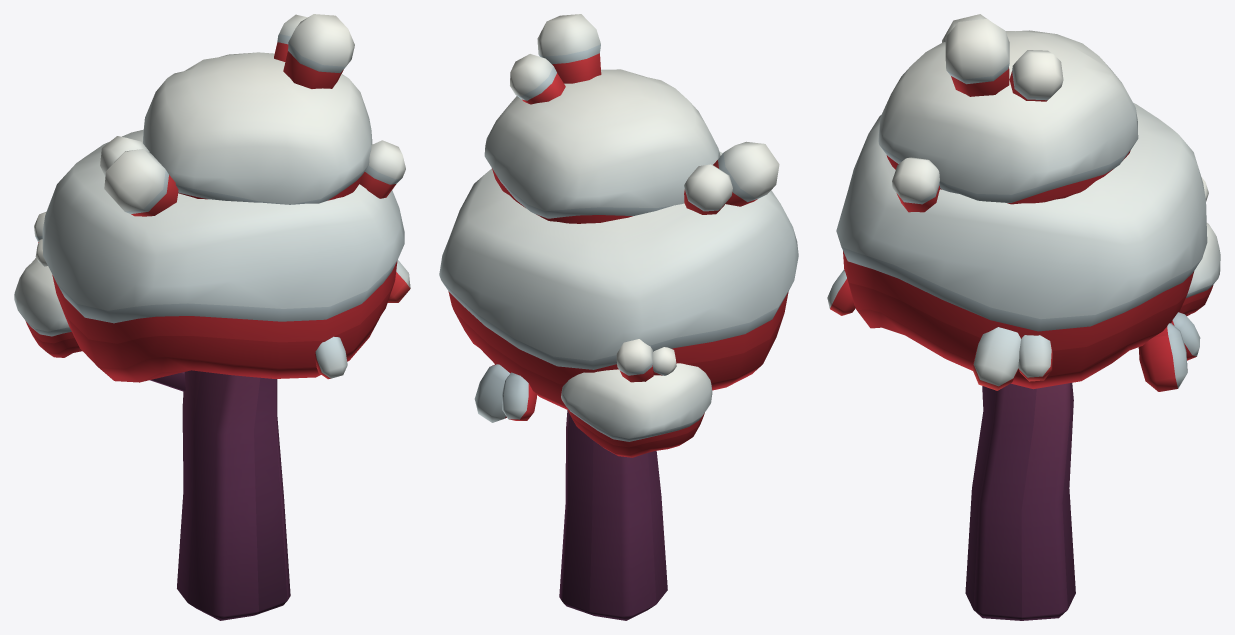
The model's file is grassland_tree_col3_3_snow.fbx.
3 views of the same model, side by side, from view 1: azimuth 30°, elevation 25°; view 2: azimuth 150°, elevation 25°; view 3: azimuth 270°, elevation 25° (orthographic). The views are drawn at different scales.
Parts seen in each view (by area): view 1: grassland_tree_col3_3_snow; view 2: grassland_tree_col3_3_snow; view 3: grassland_tree_col3_3_snow.
Boxes of the visible parts, box(x1,y1,x2,y2) form: grassland_tree_col3_3_snow: box(14, 14, 410, 620); grassland_tree_col3_3_snow: box(439, 14, 798, 620); grassland_tree_col3_3_snow: box(827, 14, 1220, 620).
Bounding box in the file's own units: 466 × 797 × 461.
